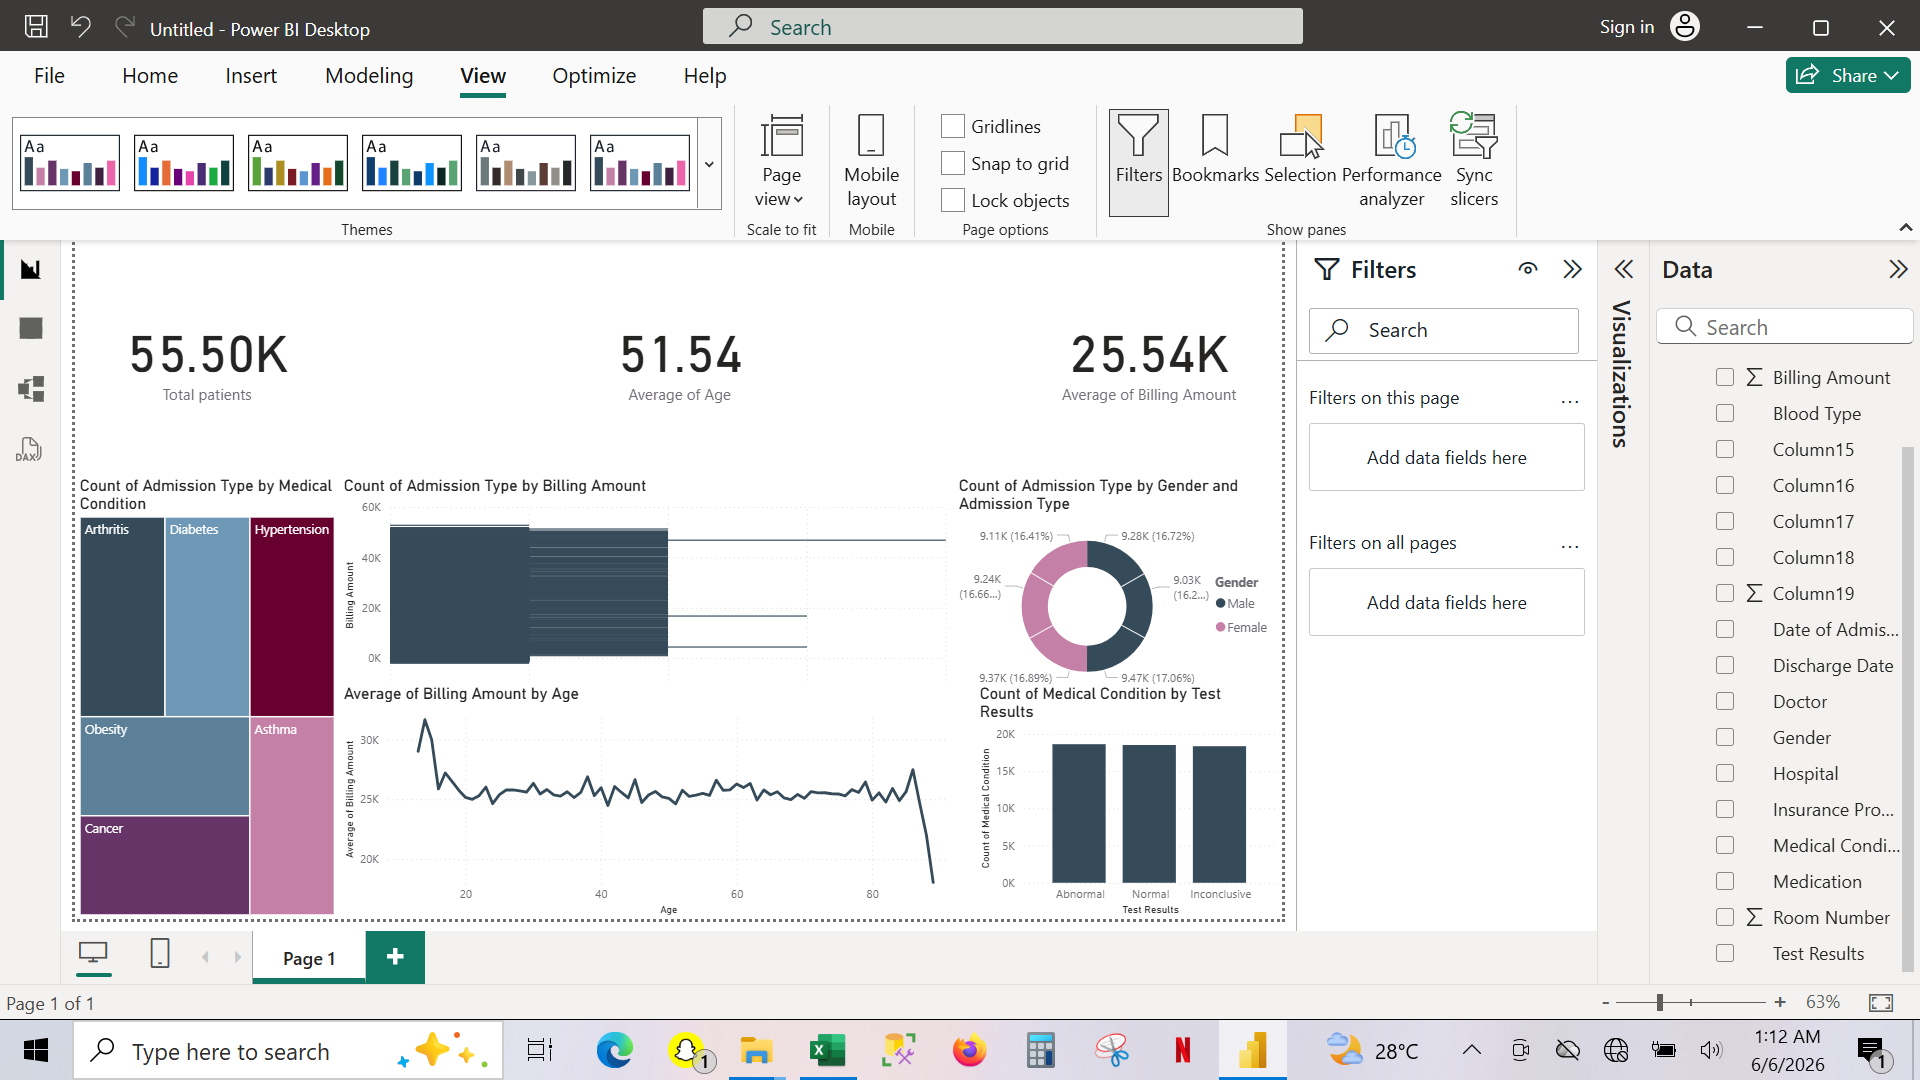

Layout of this report page (visuals, bound fields, positions):
{"tool":"powerbi","page":{"name":"Page 1","canvas":[1280,720],"ordinal":0},"visuals":[{"type":"treemap","title":"No. of admissions per Condition","fields":{"Values":["CountNonNull(healthcare_dataset_cleaned.Admission Type)"],"Details":["healthcare_dataset_cleaned.Medical Condition"]},"box":[0,82.8,279.8,470.5],"z":0},{"type":"donutChart","title":"Admissions per gender","fields":{"Category":["healthcare_dataset_cleaned.Gender"],"Series":["healthcare_dataset_cleaned.Admission Type"],"Y":["CountNonNull(healthcare_dataset_cleaned.Admission Type)"]},"box":[931.5,82.8,348.5,237.6],"z":2000},{"type":"card","fields":{"Values":["CountNonNull(healthcare_dataset_cleaned.Admission Type)"]},"box":[0,553.3,279.8,143.8],"z":3000},{"type":"card","fields":{"Values":["Avg(healthcare_dataset_cleaned.Age)"]},"box":[498.6,553.3,279.8,143.8],"z":4000},{"type":"card","fields":{"Values":["Avg(healthcare_dataset_cleaned.Billing Amount)"]},"box":[989.4,553.3,290.7,143.8],"z":5000},{"type":"lineChart","fields":{"Category":["healthcare_dataset_cleaned.Age"],"Y":["Avg(healthcare_dataset_cleaned.Billing Amount)"]},"box":[279.8,82.8,651.8,250.1],"z":6000},{"type":"columnChart","title":"Test results findidngs","fields":{"Category":["healthcare_dataset_cleaned.Test Results"],"Y":["CountNonNull(healthcare_dataset_cleaned.Medical Condition)"]},"box":[955,332.9,325.1,220.4],"z":7000},{"type":"textbox","box":[0,0,1278.5,82.8],"z":7001},{"type":"textbox","box":[280,333,652,220],"z":7002}]}

Visuals, with their boxes on the page's 1280x720 design canvas (x1, y1, x2, y2). These are canvas units, not pixel positions in the 1920x1080 screenshot, which may show the page scaled, cropped or inside an application window:
"No. of admissions per Condition" treemap: (0, 83, 280, 553)
"Admissions per gender" donutChart: (932, 83, 1280, 320)
card - CountNonNull(healthcare_dataset_cleaned.Admission Type): (0, 553, 280, 697)
card - Avg(healthcare_dataset_cleaned.Age): (499, 553, 778, 697)
card - Avg(healthcare_dataset_cleaned.Billing Amount): (989, 553, 1280, 697)
lineChart - healthcare_dataset_cleaned.Age x Avg(healthcare_dataset_cleaned.Billing Amount): (280, 83, 932, 333)
"Test results findidngs" columnChart: (955, 333, 1280, 553)
textbox: (0, 0, 1278, 83)
textbox: (280, 333, 932, 553)
